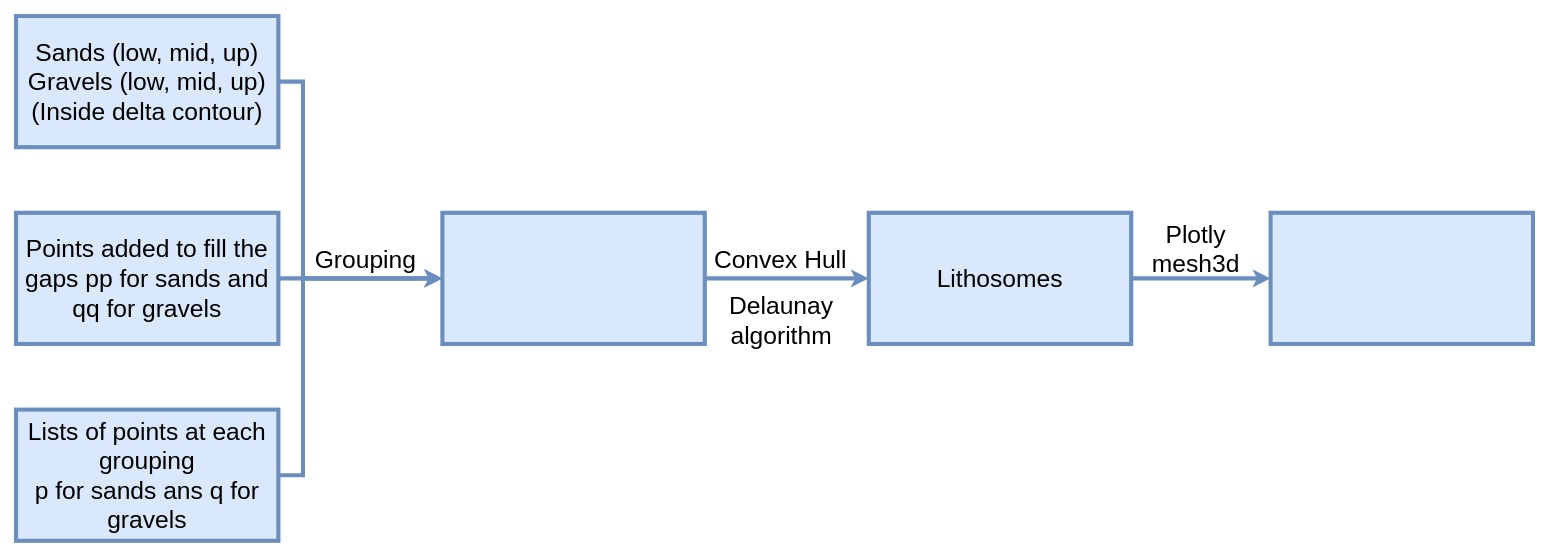
This 1549x557 diagram has some shape labels left out. Here are the shapes that lost their labels. From the top down, the centre of each, then its label:
At [573,278]: "Clusters (Groups) j for sands and k for gravels".
At [1401,278]: "Figure 3D_lithosomes.html".
